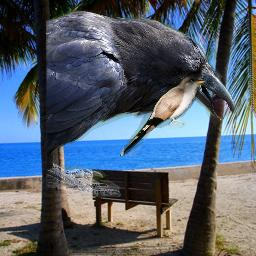Crow: (46, 10, 236, 197)
Cuckoo: (120, 76, 207, 156)
